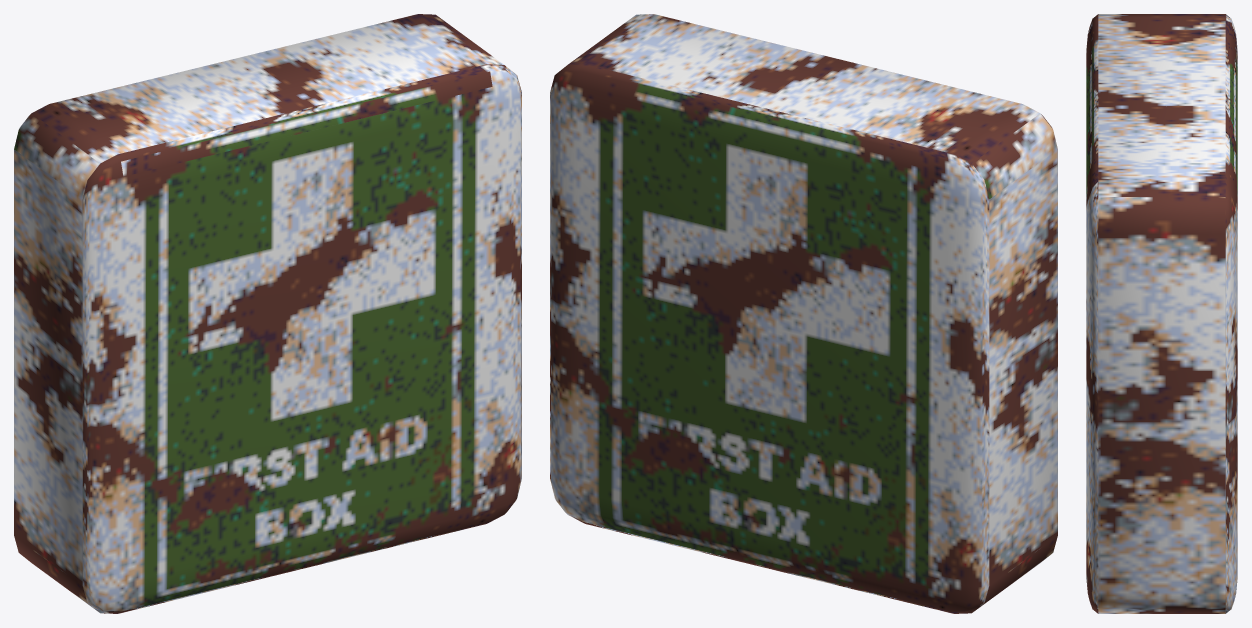
The model's file is medkit.glb.
The picture shows the model from 3 angles, left to right: view 1: azimuth 30°, elevation 25°; view 2: azimuth 150°, elevation 25°; view 3: azimuth 270°, elevation 25°; orthographic projection. The views are drawn at different scales.
Parts seen in each view (by area): view 1: Cube; view 2: Cube; view 3: Cube.
Part boxes in pixels (bbox=[...]): Cube: bbox=[14, 14, 521, 613]; Cube: bbox=[550, 14, 1057, 613]; Cube: bbox=[1086, 14, 1237, 613].
Bounding box in the file's own units: 0.5075 × 0.5075 × 0.1636.
Materials: 1 (1 with a texture image).
